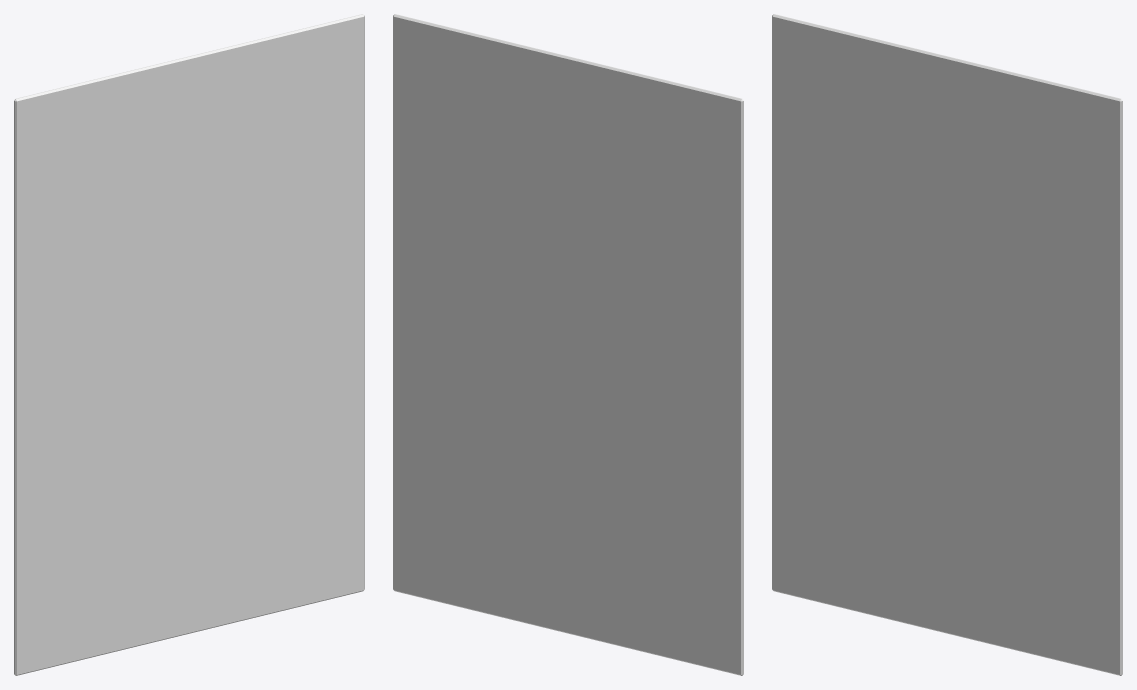
The model's file is paper.obj.
3 views of the same model, side by side, from view 1: azimuth 30°, elevation 25°; view 2: azimuth 150°, elevation 25°; view 3: azimuth 330°, elevation 25° (orthographic).
Parts seen in each view (by area): view 1: Cube_Cube.001; view 2: Cube_Cube.001; view 3: Cube_Cube.001.
Boxes of the visible parts, <box> form: Cube_Cube.001: <box>14,14,364,675</box>; Cube_Cube.001: <box>393,14,743,675</box>; Cube_Cube.001: <box>772,14,1122,675</box>.
Size of the model in its own units: 0.3588 by 0.5644 by 0.00407.
Materials: 1 (1 with a texture image).
